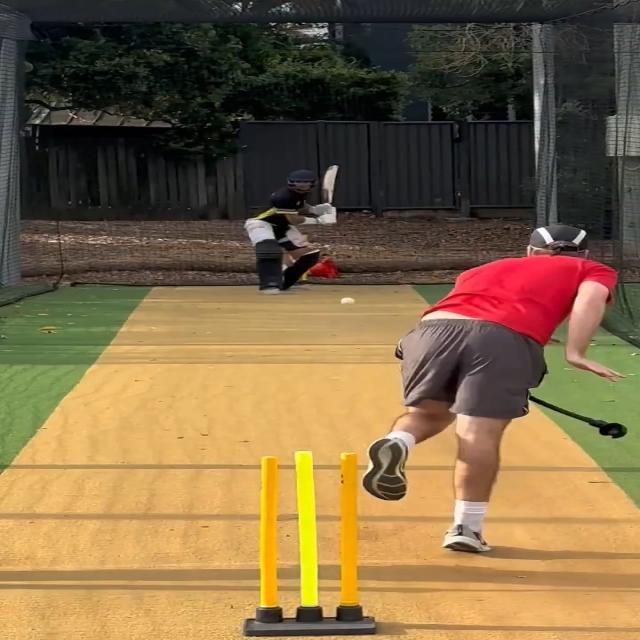ball: (338, 296, 357, 306)
stump: (240, 448, 375, 636)
